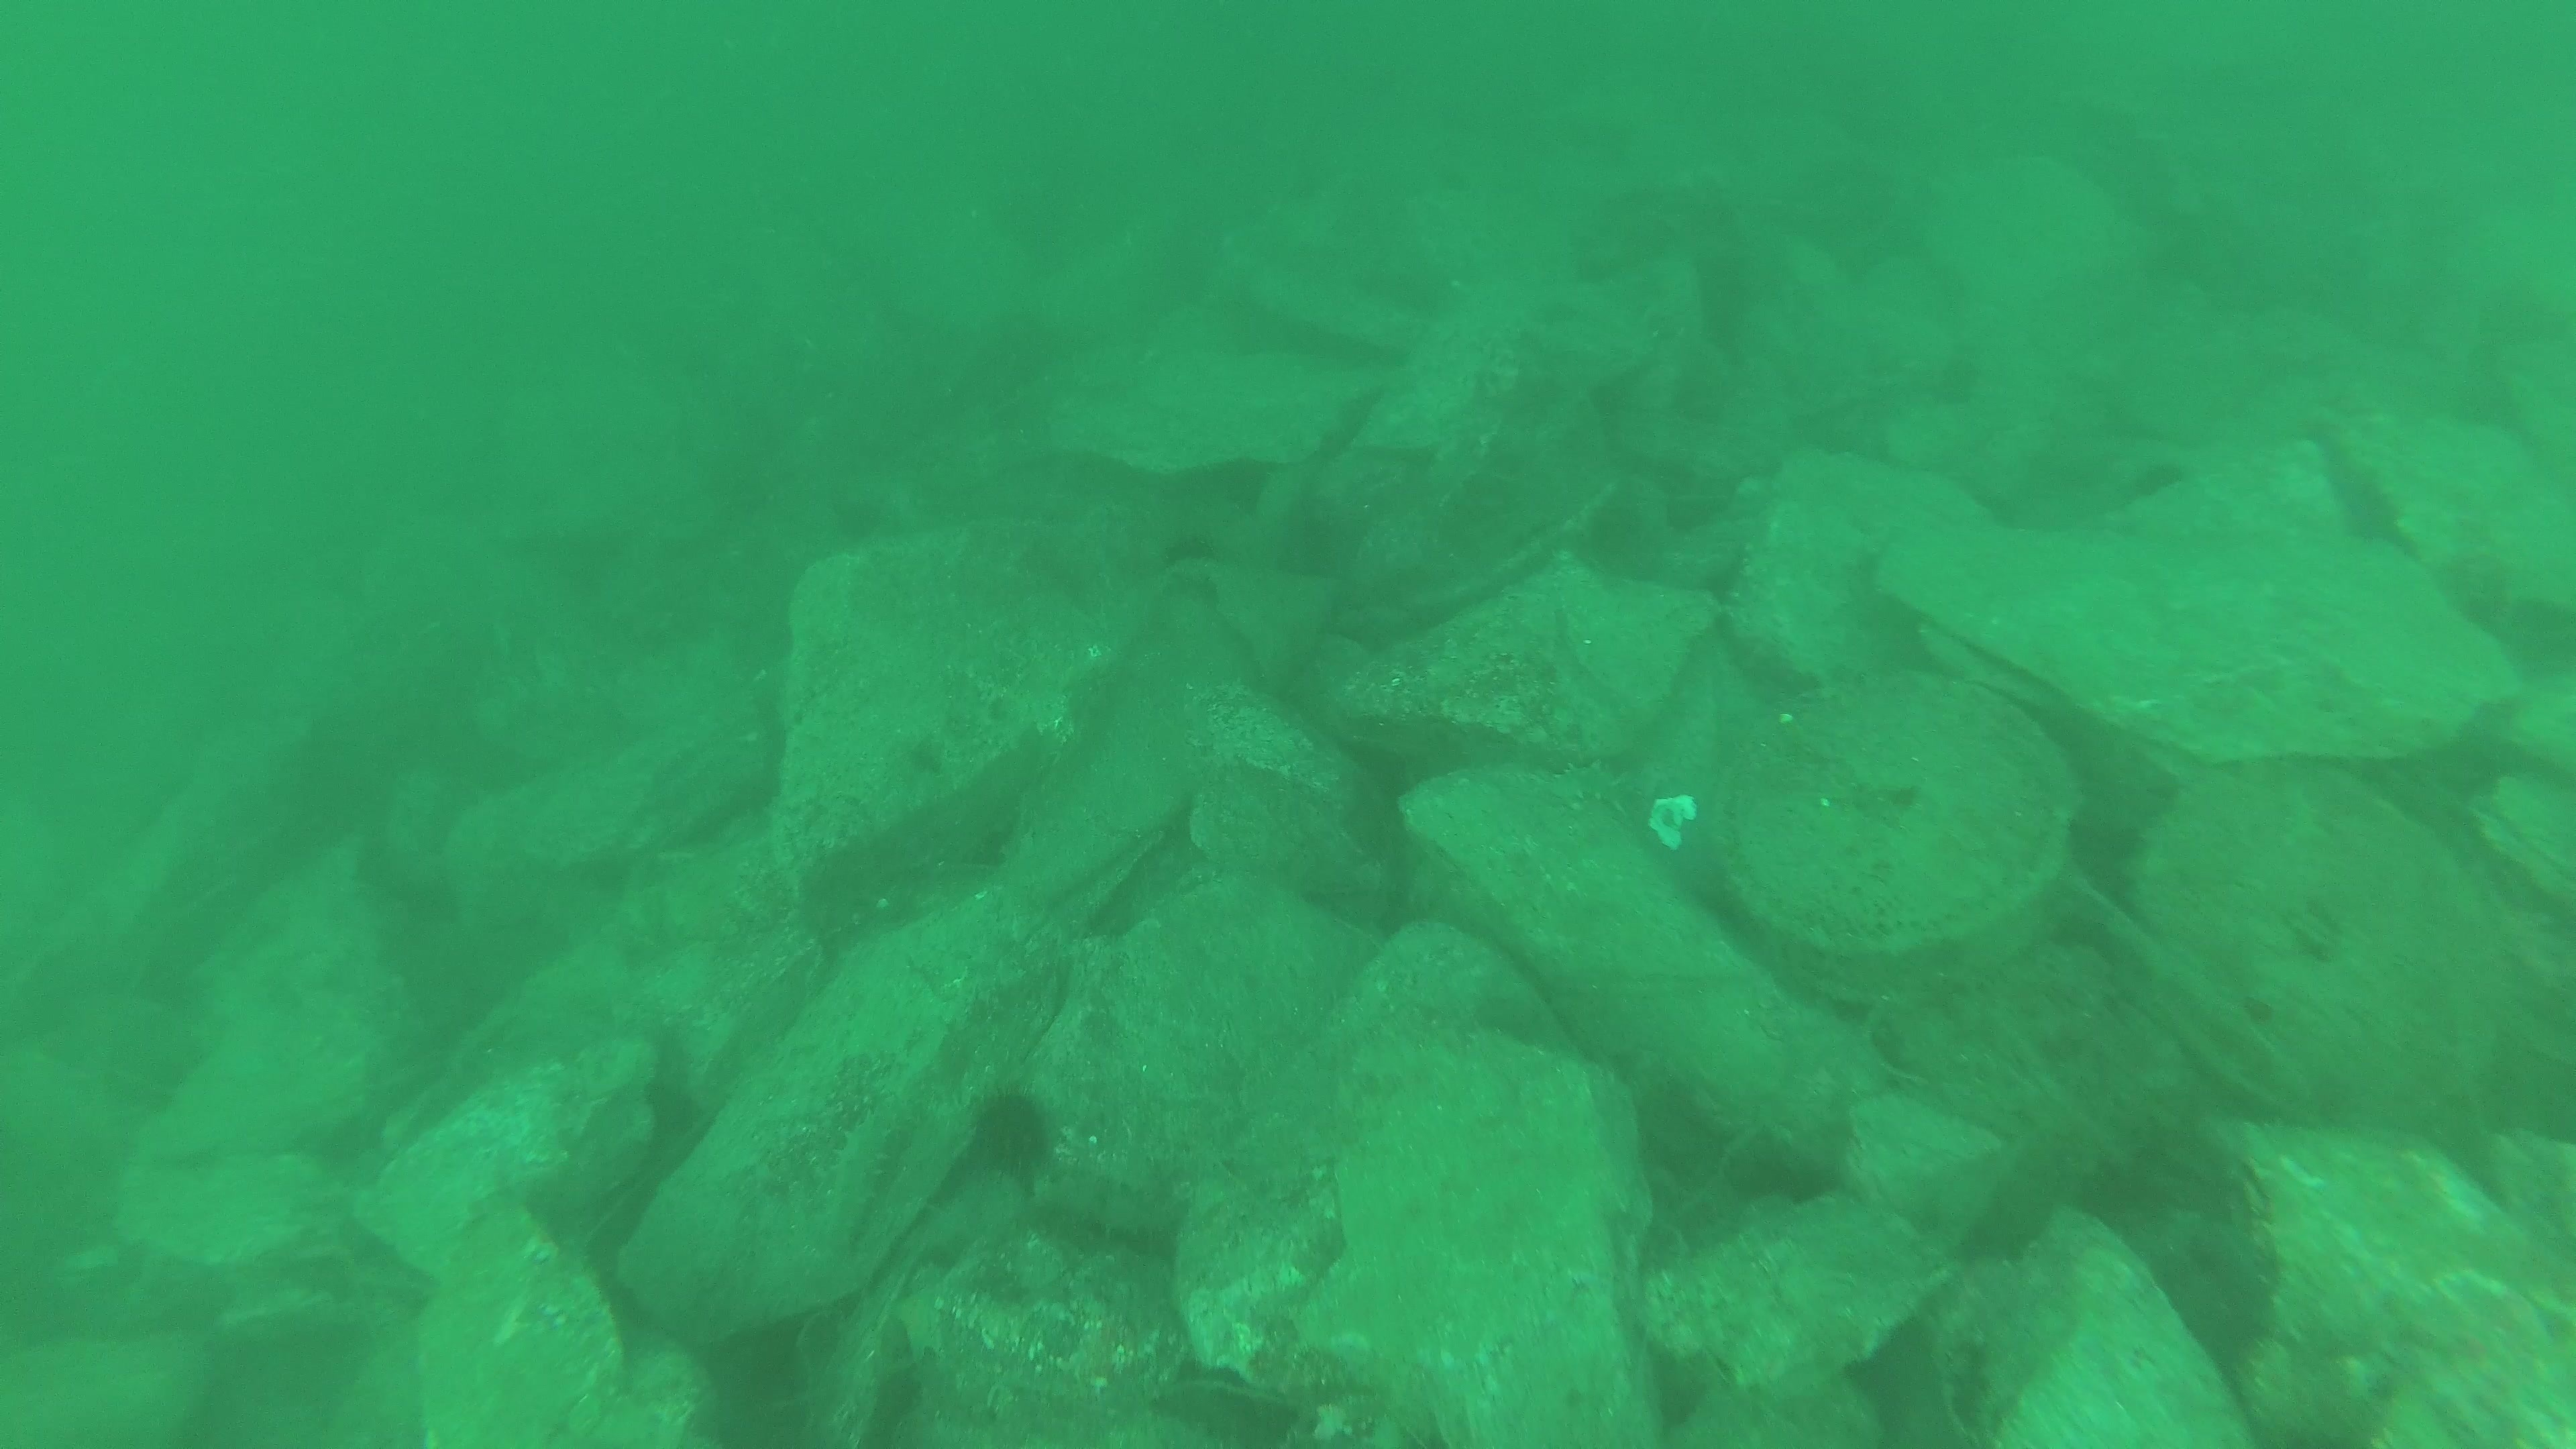echinus: (961, 1079, 1063, 1187)
